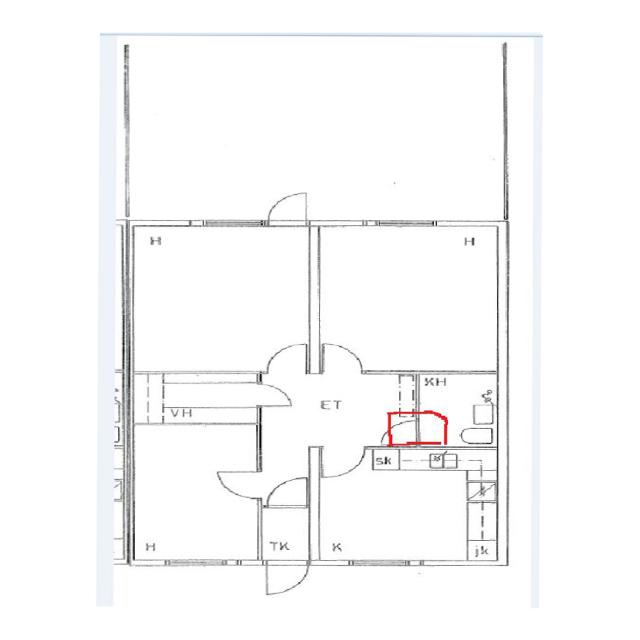door: (266, 560, 307, 594), (267, 343, 306, 374), (323, 344, 363, 374), (269, 194, 306, 226), (268, 478, 306, 508), (219, 472, 262, 498), (256, 385, 292, 406), (385, 378, 420, 398), (420, 402, 449, 423)
